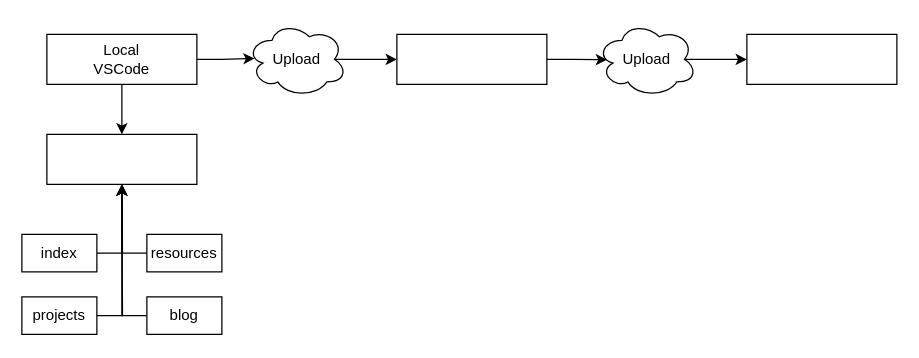
The diagram is 919 pixels wide and 358 high, and some of its shapes have lost their labels. Each missing label, with the centre of its shape:
"Github Pages App" belongs at pixel 821 58.
"Github Source Code" belongs at pixel 471 58.
"Local App" belongs at pixel 121 158.
